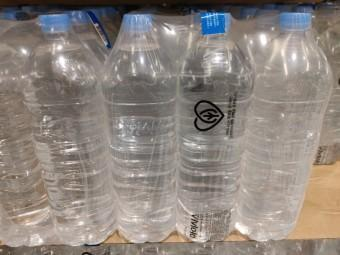bottle: (236, 12, 331, 241), (24, 14, 116, 245), (176, 11, 254, 243), (102, 13, 176, 242)
